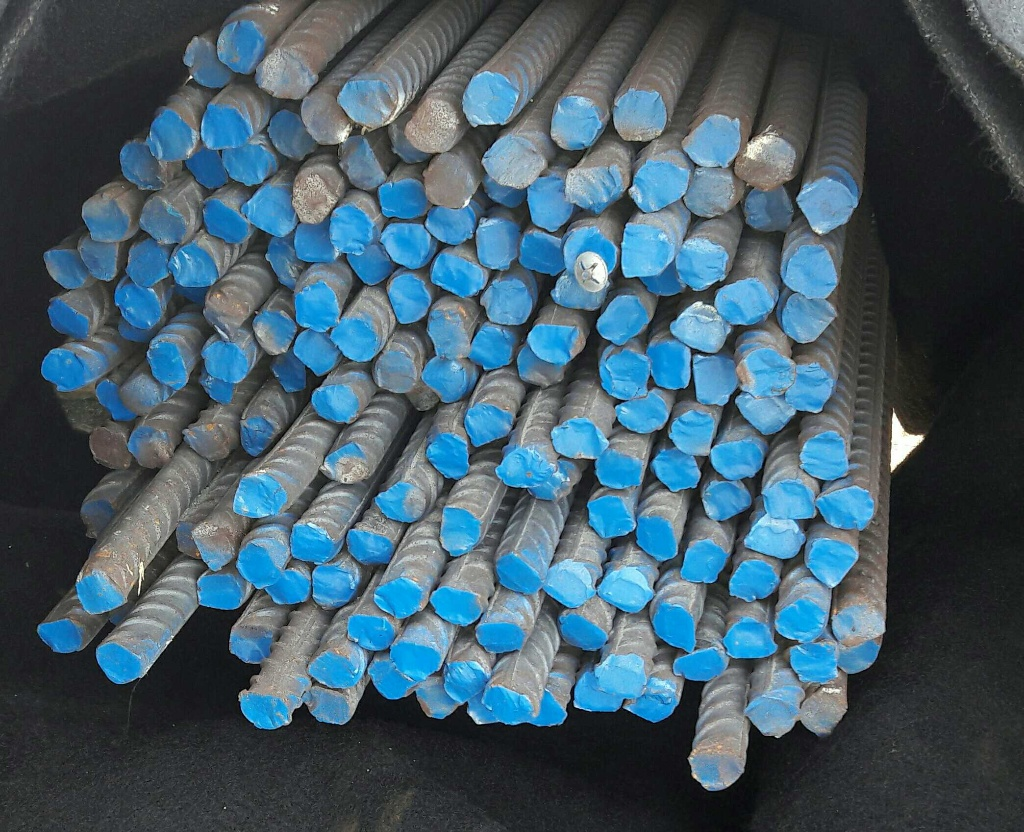dipstick: (795, 178, 850, 236), (738, 136, 794, 191), (335, 78, 394, 128), (462, 74, 517, 127), (784, 247, 838, 300), (481, 136, 538, 186), (717, 277, 772, 328), (300, 90, 350, 145), (673, 305, 731, 352), (333, 136, 385, 187), (652, 598, 698, 655), (216, 23, 266, 75), (564, 228, 616, 278), (525, 173, 570, 230), (629, 161, 687, 205), (422, 156, 472, 207), (148, 110, 199, 160), (432, 247, 482, 298), (600, 347, 651, 397), (613, 91, 664, 141), (742, 346, 794, 395), (809, 534, 857, 587), (736, 388, 790, 435), (813, 486, 872, 529), (427, 304, 473, 359), (474, 214, 516, 274), (689, 166, 738, 217), (553, 96, 601, 148), (255, 52, 313, 95), (621, 221, 664, 278), (690, 352, 735, 406), (562, 169, 618, 212), (686, 117, 737, 164), (481, 279, 531, 326), (800, 432, 851, 478), (201, 283, 246, 335), (745, 183, 793, 231), (181, 36, 229, 84), (124, 237, 172, 285), (199, 101, 249, 147), (236, 538, 282, 588), (235, 470, 282, 518), (782, 293, 832, 338), (243, 191, 294, 235), (380, 219, 431, 263), (42, 297, 93, 341), (113, 282, 166, 324), (120, 142, 167, 189), (679, 240, 725, 288), (381, 115, 424, 166), (385, 273, 428, 324), (786, 642, 837, 685), (552, 418, 604, 460), (518, 230, 565, 276), (171, 241, 217, 288), (307, 562, 352, 610), (652, 447, 700, 492), (330, 203, 374, 252), (748, 695, 798, 738), (614, 392, 665, 434), (775, 599, 826, 641), (294, 170, 335, 222), (288, 221, 340, 262), (722, 619, 774, 660), (293, 324, 338, 371), (201, 338, 249, 382), (293, 282, 336, 331), (75, 573, 126, 614), (554, 271, 605, 312), (745, 516, 797, 556), (86, 426, 132, 471), (587, 494, 634, 538), (597, 299, 645, 342), (791, 364, 833, 413), (55, 390, 110, 427), (764, 481, 816, 520), (333, 316, 378, 361), (268, 110, 312, 156), (467, 325, 511, 371), (482, 684, 528, 728), (496, 551, 542, 595), (796, 689, 840, 735), (200, 200, 247, 243), (146, 341, 189, 388), (688, 751, 741, 789), (428, 586, 477, 627), (320, 445, 370, 485), (375, 484, 425, 524), (237, 692, 291, 729), (600, 653, 644, 698), (633, 516, 677, 561), (218, 144, 270, 182), (82, 196, 129, 238), (78, 233, 120, 280), (440, 508, 482, 555), (138, 201, 188, 240), (425, 434, 469, 478), (547, 559, 590, 604), (373, 350, 415, 396), (592, 446, 638, 488), (413, 102, 452, 151), (261, 237, 300, 286), (309, 384, 358, 423), (604, 570, 648, 613), (369, 658, 411, 703), (390, 643, 441, 680), (654, 341, 691, 392), (424, 356, 465, 402), (681, 541, 727, 582), (497, 451, 545, 490), (832, 606, 884, 642), (373, 580, 422, 618), (348, 611, 391, 654), (528, 326, 579, 362), (183, 424, 230, 463), (41, 351, 89, 389), (710, 440, 759, 477), (230, 622, 272, 665), (558, 611, 601, 653), (95, 643, 139, 684), (522, 231, 563, 275), (42, 249, 87, 289), (289, 523, 334, 563), (480, 173, 526, 212), (639, 257, 685, 296), (624, 682, 671, 720), (377, 180, 428, 215), (304, 685, 346, 727), (128, 426, 171, 467), (413, 675, 456, 716), (186, 146, 226, 190), (342, 530, 392, 565), (425, 205, 471, 243), (834, 637, 882, 673), (465, 403, 508, 443), (518, 347, 562, 386), (673, 409, 710, 455), (673, 648, 723, 682), (347, 245, 391, 283), (252, 310, 293, 349), (193, 527, 232, 568), (94, 379, 132, 421), (734, 563, 776, 601), (308, 651, 351, 688), (704, 481, 748, 517), (121, 376, 160, 415), (78, 496, 118, 534), (235, 415, 276, 452), (580, 674, 617, 715), (34, 620, 81, 652), (442, 662, 486, 696), (270, 350, 306, 391), (474, 623, 520, 655), (531, 688, 565, 731), (267, 570, 308, 605), (197, 574, 240, 607), (198, 368, 236, 404), (113, 315, 157, 346), (172, 520, 201, 565), (398, 377, 434, 410), (534, 468, 570, 501), (470, 695, 498, 725)
